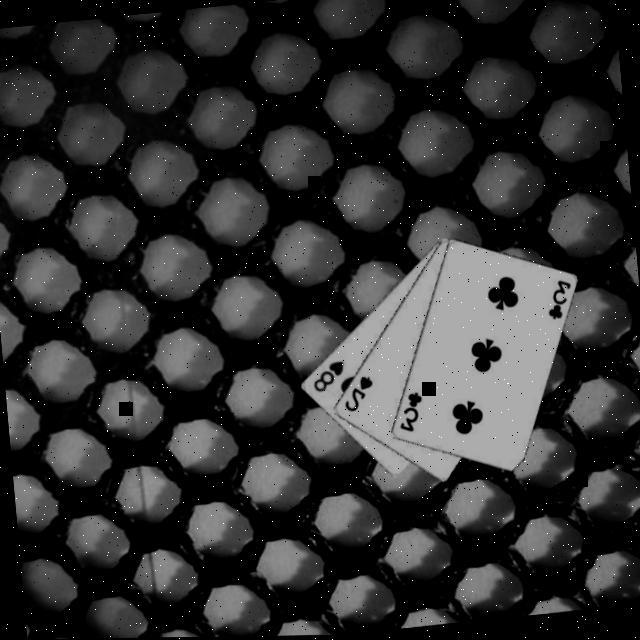2S: (337, 372, 376, 414)
3C: (392, 388, 426, 434), (540, 276, 574, 322)
8H: (306, 356, 347, 394)
